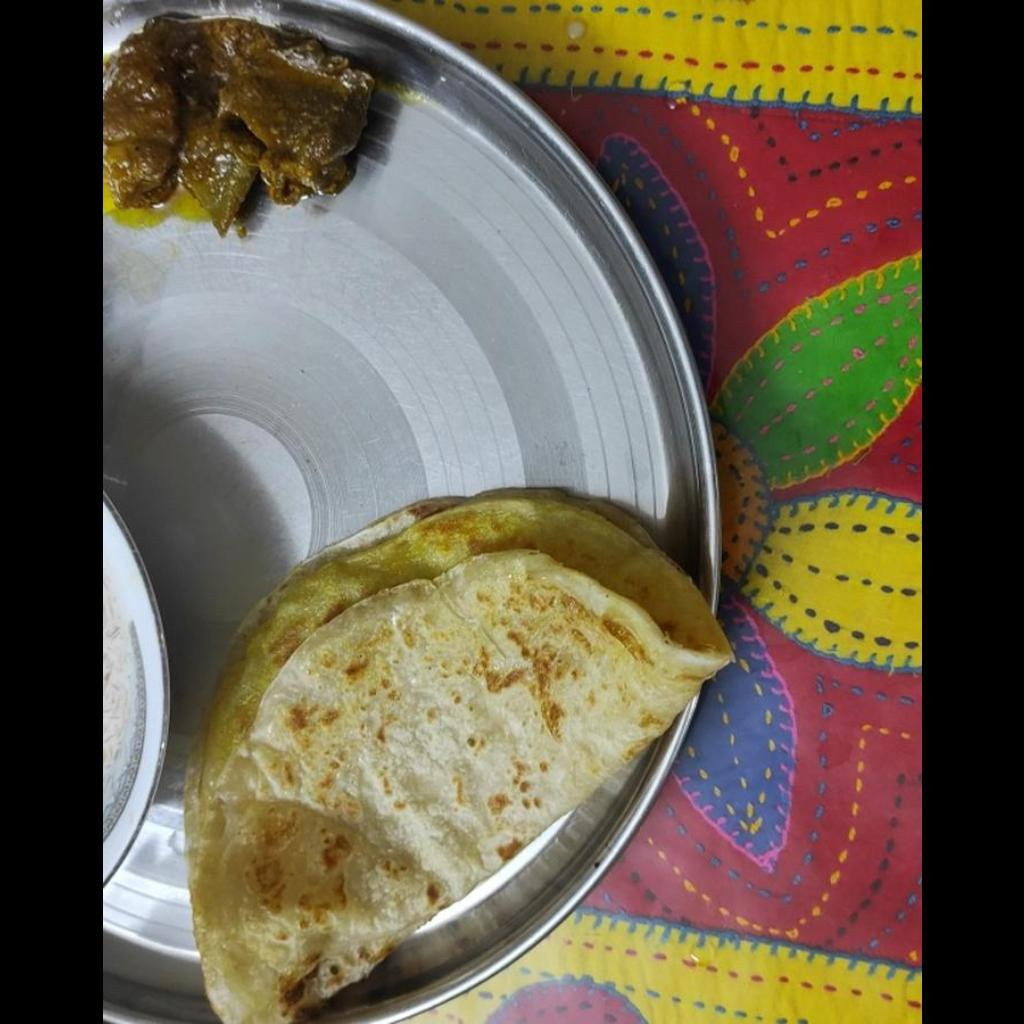beef: (102, 12, 383, 241)
ruti: (180, 485, 737, 1017)
